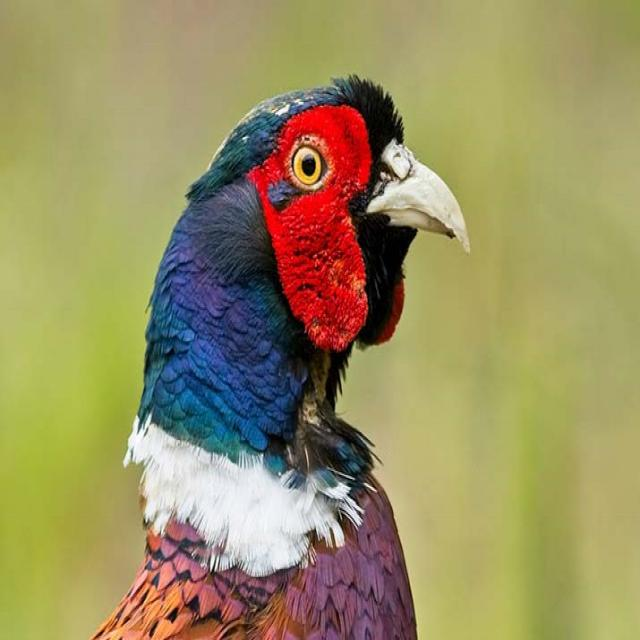pheasant: (88, 77, 472, 638)
